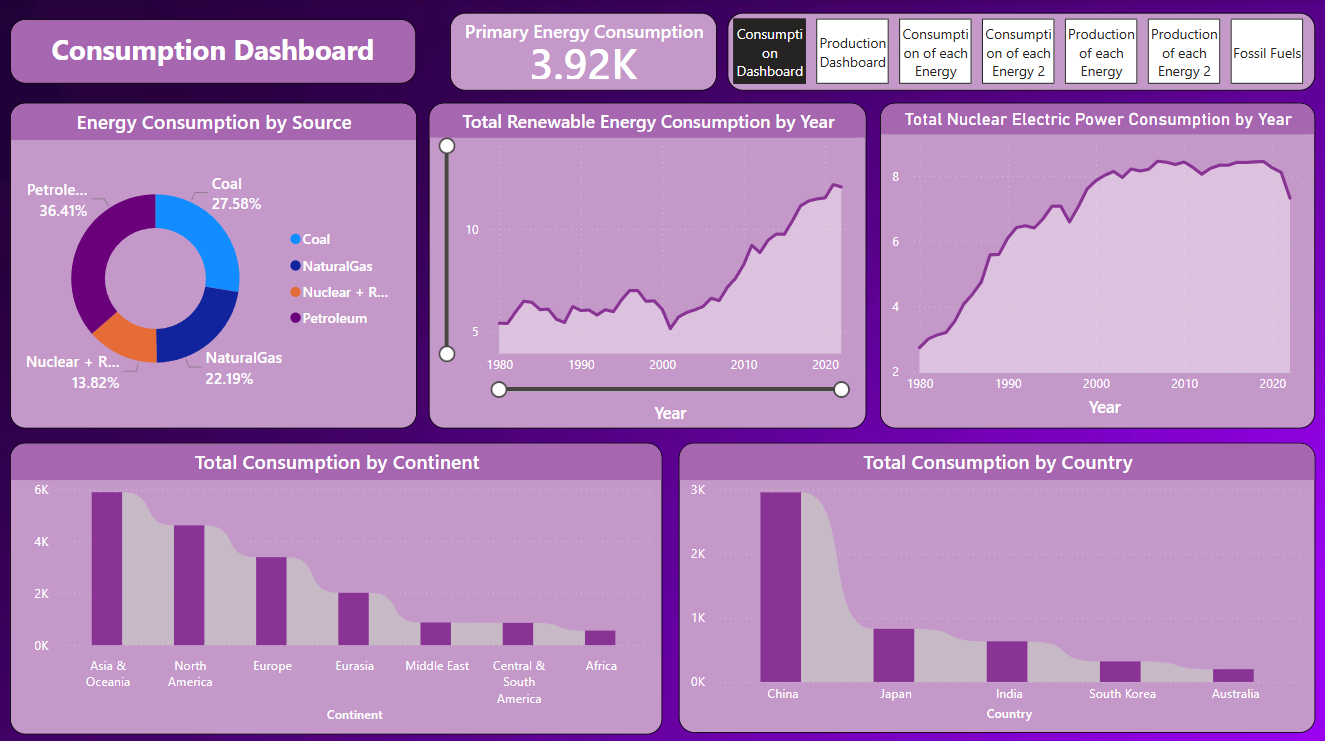

This screenshot's page, from the dashboard's own definition file:
{"tool":"powerbi","page":{"name":"Consumption Dashboard","canvas":[1280,720],"ordinal":0},"visuals":[{"type":"donutChart","title":"Energy Consumption by Source","fields":{"Y":["Sum(Consumption_Coal.Consumption_Coal)","Sum(Consumption_NaturalGas.Consumption_NaturalGas)","Sum(Consumption_Neuclear+renewables.Consumption_Neuclear)","Sum(Consumption_Petroleum.Consumption_Petrolium)"]},"box":[9.6,100.2,392.5,314.2],"z":0},{"type":"ribbonChart","title":"Total Consumption by Continent","fields":{"Category":["Consumption_Total.Continent"],"Y":["Sum(Consumption_Total.Total_Consumption)"]},"box":[9.6,428.1,629.8,281.3],"z":1000},{"type":"ribbonChart","title":"Total Consumption by Country","fields":{"Category":["Consumption_Total.Country"],"Y":["Sum(Consumption_Total.Total_Consumption)"]},"box":[654.5,428.1,614.8,279.9],"z":2000},{"type":"lineChart","title":"Total Nuclear Electric Power Consumption by Year","fields":{"Category":["World Energy Overview.Date.Variation.Date Hierarchy.Year"],"Y":["Sum(World Energy Overview.Nuclear Electric Power Consumption)"]},"box":[849.4,100.2,419.9,314.2],"z":3000},{"type":"lineChart","title":"Total Renewable Energy Consumption by Year","fields":{"Category":["World Energy Overview.Date.Variation.Date Hierarchy.Year"],"Y":["Sum(World Energy Overview.Total Renewable Energy Consumption)"]},"box":[414.4,100.2,422.6,314.2],"z":4000},{"type":"card","title":"Primary Energy Consumption","fields":{"Values":["Sum(World Energy Overview.Total Primary Energy Consumption)"]},"box":[433.8,13.8,257.5,75],"z":5000},{"type":"pageNavigator","box":[702.5,13.8,567.5,75],"z":6000},{"type":"textbox","box":[9.7,19.3,392.1,62.7],"z":7000}]}

Visuals, with their boxes in screenshot pixels (x1, y1, x2, y2), scaled from the page's 1280x720 canvas onto the 1325x741 screenshot:
"Energy Consumption by Source" donutChart: bbox=(10, 103, 416, 426)
"Total Consumption by Continent" ribbonChart: bbox=(10, 441, 662, 730)
"Total Consumption by Country" ribbonChart: bbox=(678, 441, 1314, 729)
"Total Nuclear Electric Power Consumption by Year" lineChart: bbox=(879, 103, 1314, 426)
"Total Renewable Energy Consumption by Year" lineChart: bbox=(429, 103, 866, 426)
"Primary Energy Consumption" card: bbox=(449, 14, 716, 91)
pageNavigator: bbox=(727, 14, 1315, 91)
textbox: bbox=(10, 20, 416, 84)
